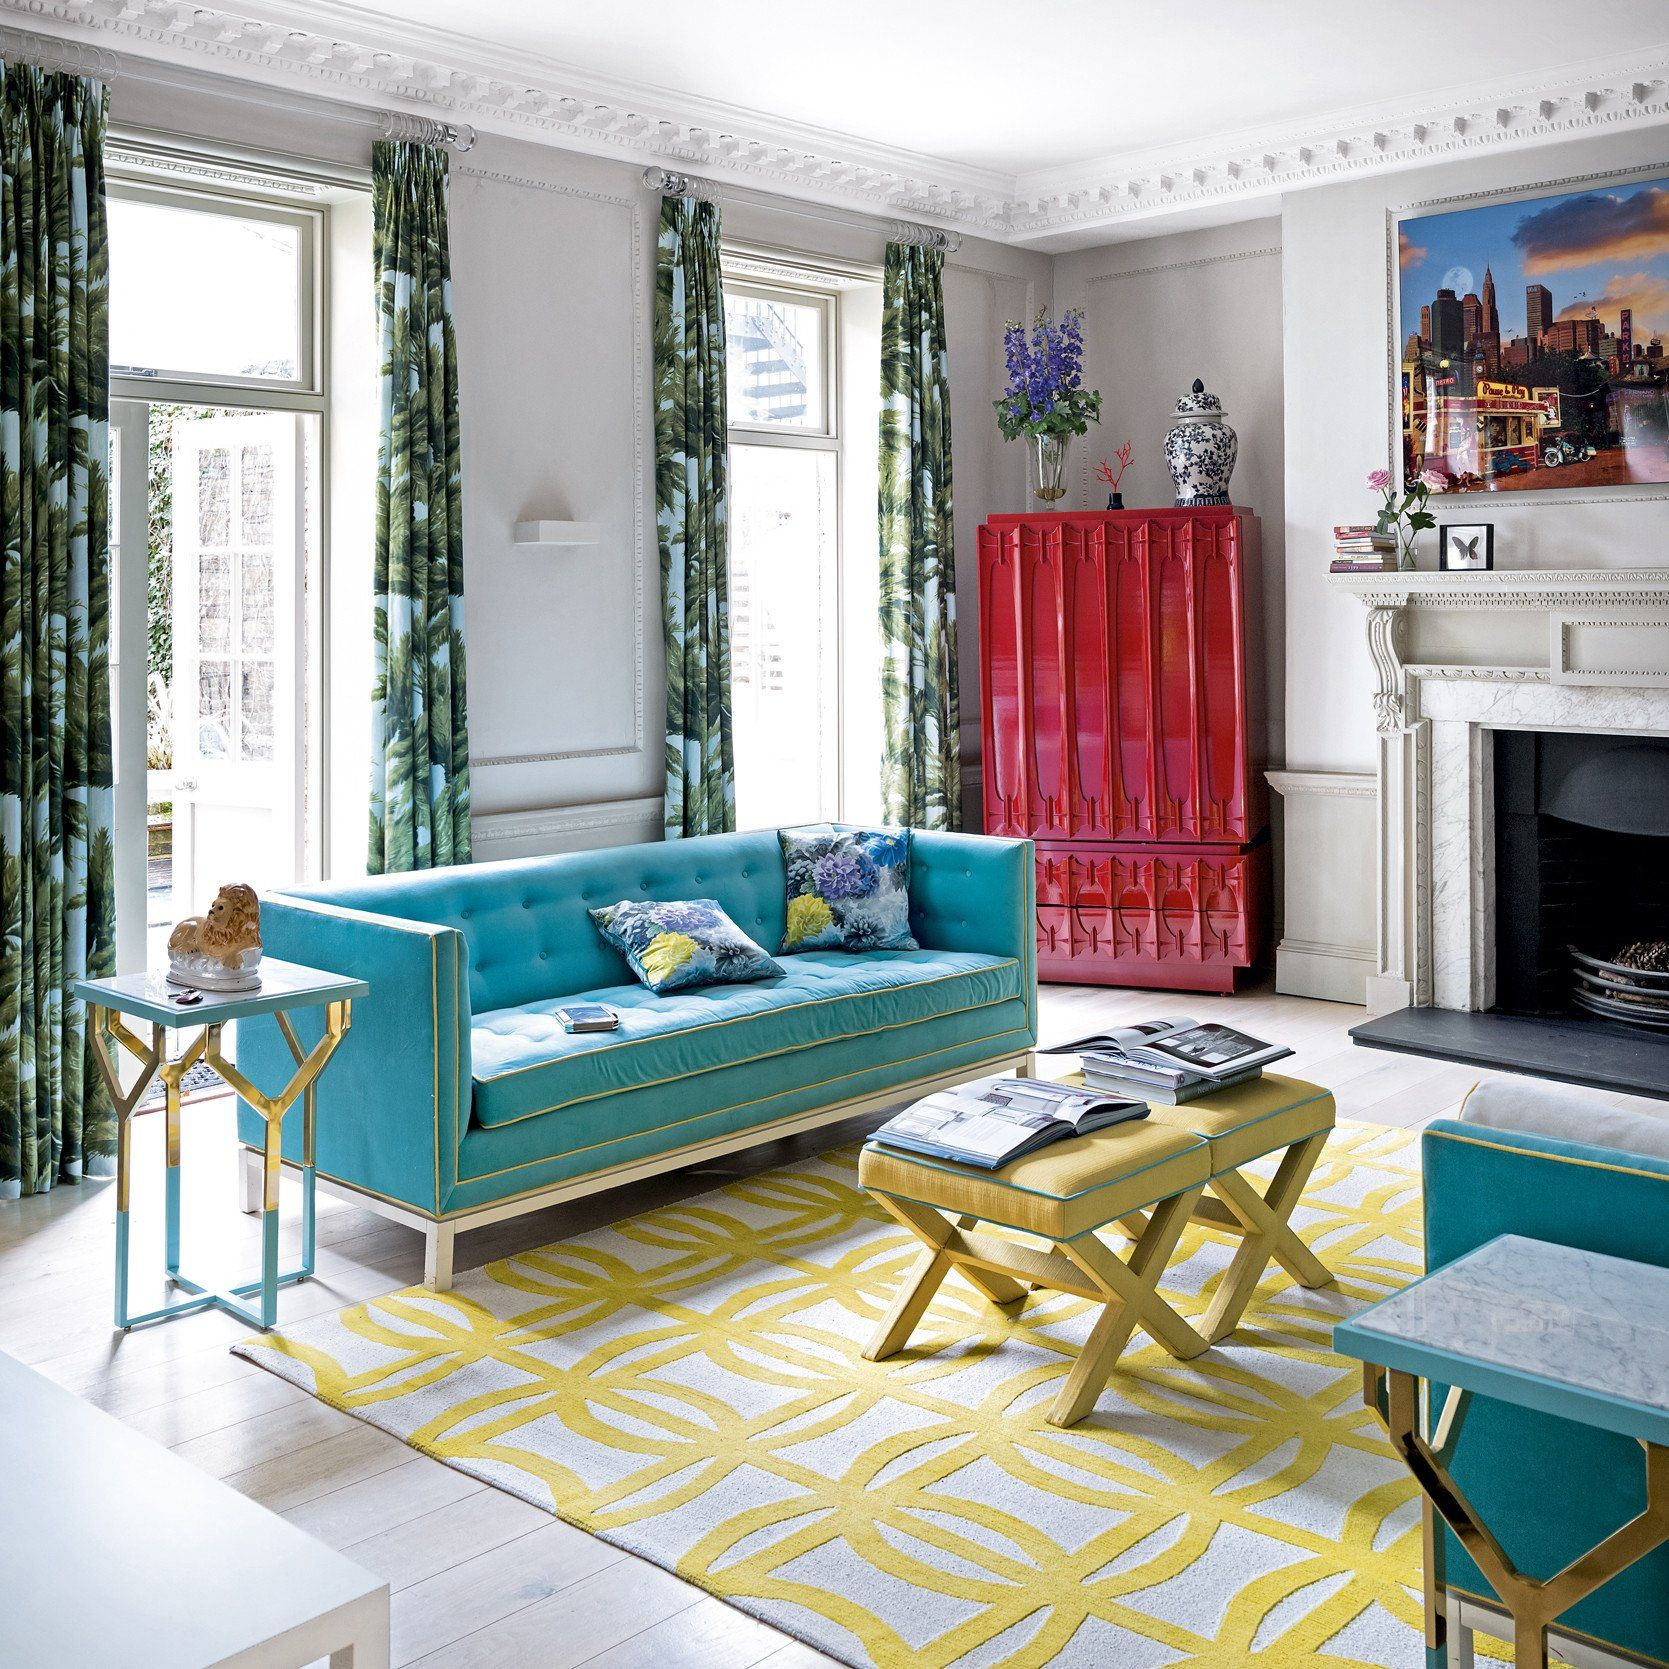biru: (235, 847, 1001, 1070)
merah: (974, 524, 1255, 977)
